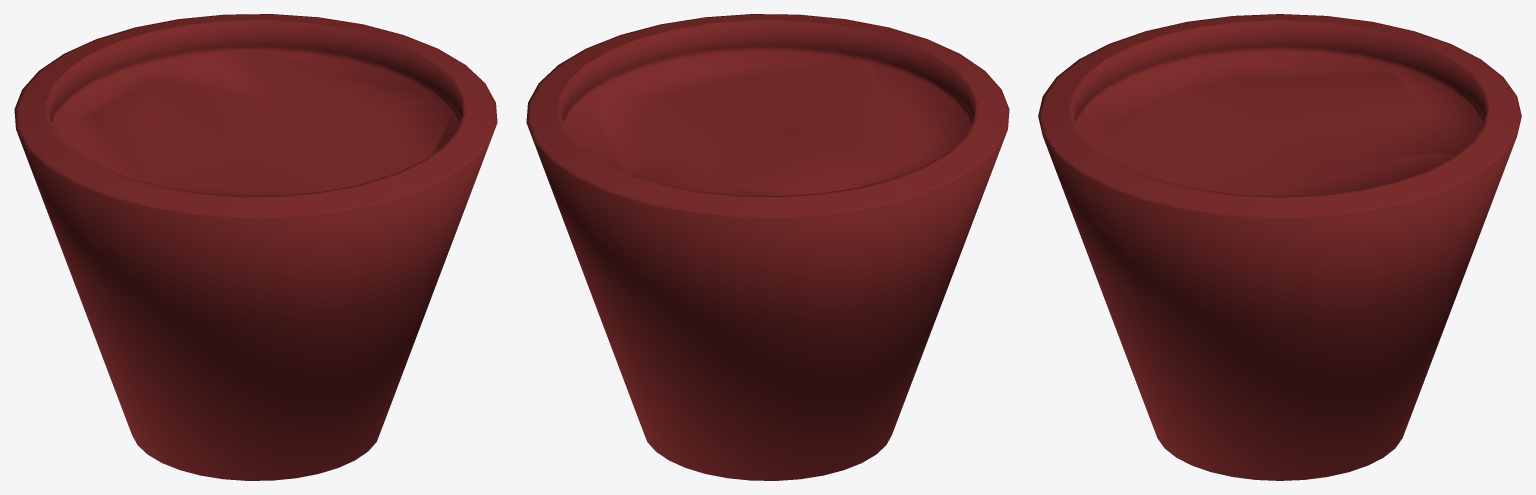
The model's file is pot2 (1).fbx.
3 views of the same model, side by side, from view 1: azimuth 30°, elevation 25°; view 2: azimuth 150°, elevation 25°; view 3: azimuth 270°, elevation 25° (orthographic).
Parts seen in each view (by area): view 1: Circle; view 2: Circle; view 3: Circle.
Part boxes in pixels (left/top/right/bottom): Circle: left=14, top=14, right=497, bottom=480; Circle: left=526, top=14, right=1009, bottom=480; Circle: left=1038, top=14, right=1521, bottom=480.
Size of the model in its own units: 387 by 282 by 387.
